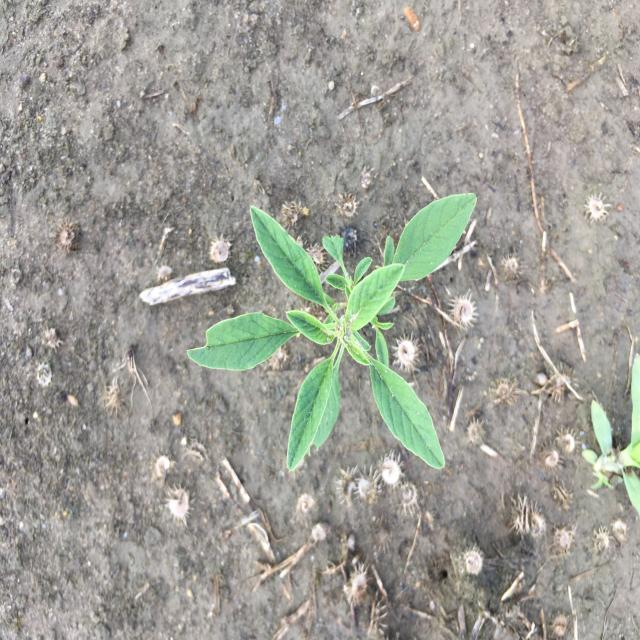Goosegrass: (589, 351, 638, 520)
Waterhemp: (186, 190, 480, 474)
